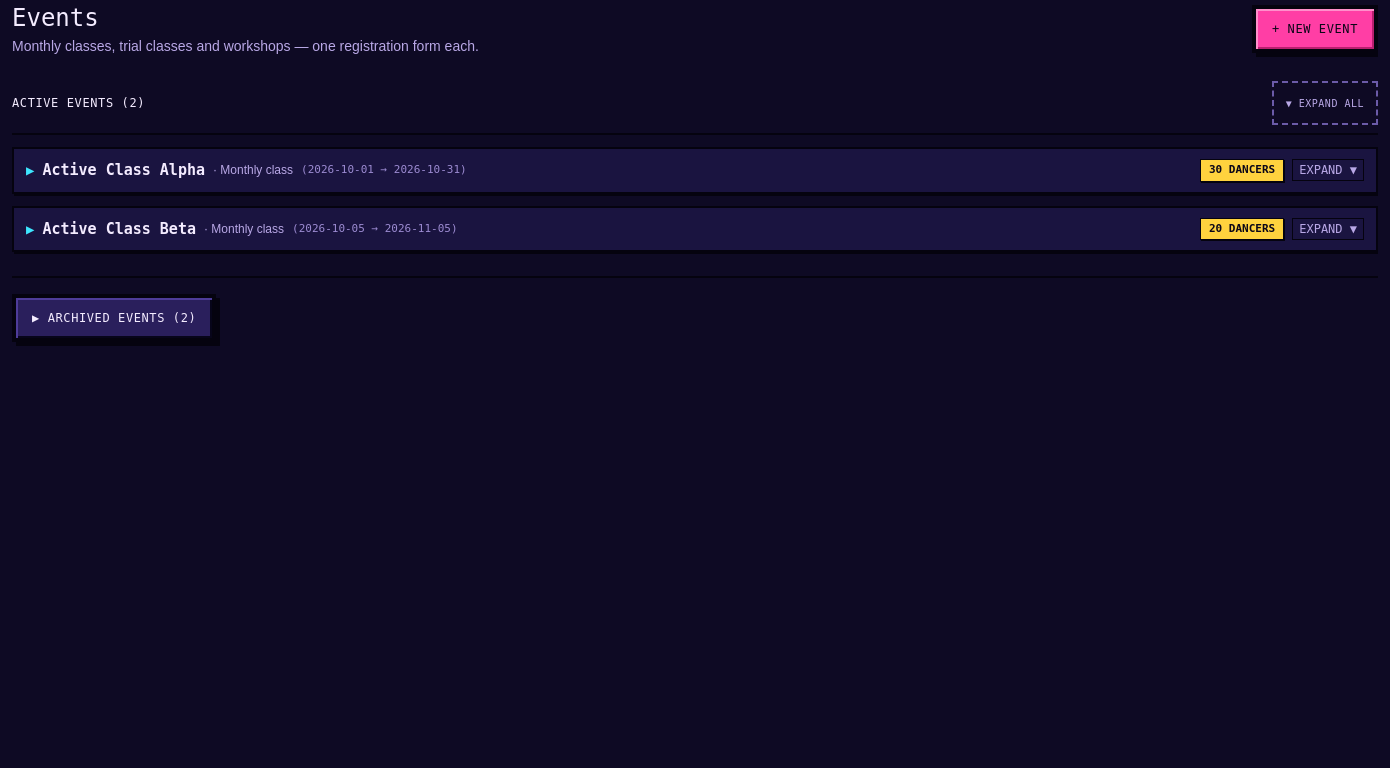
Test case: EventsPage Collapsible Accordions and Year-Based Archive › provides an Expand All / Collapse All button for active events
This screenshot has width=1390, height=768.
// Click Expand All
Click the button "▼ EXPAND ALL".
click(1325, 103)  # box [1272,81,1378,125]
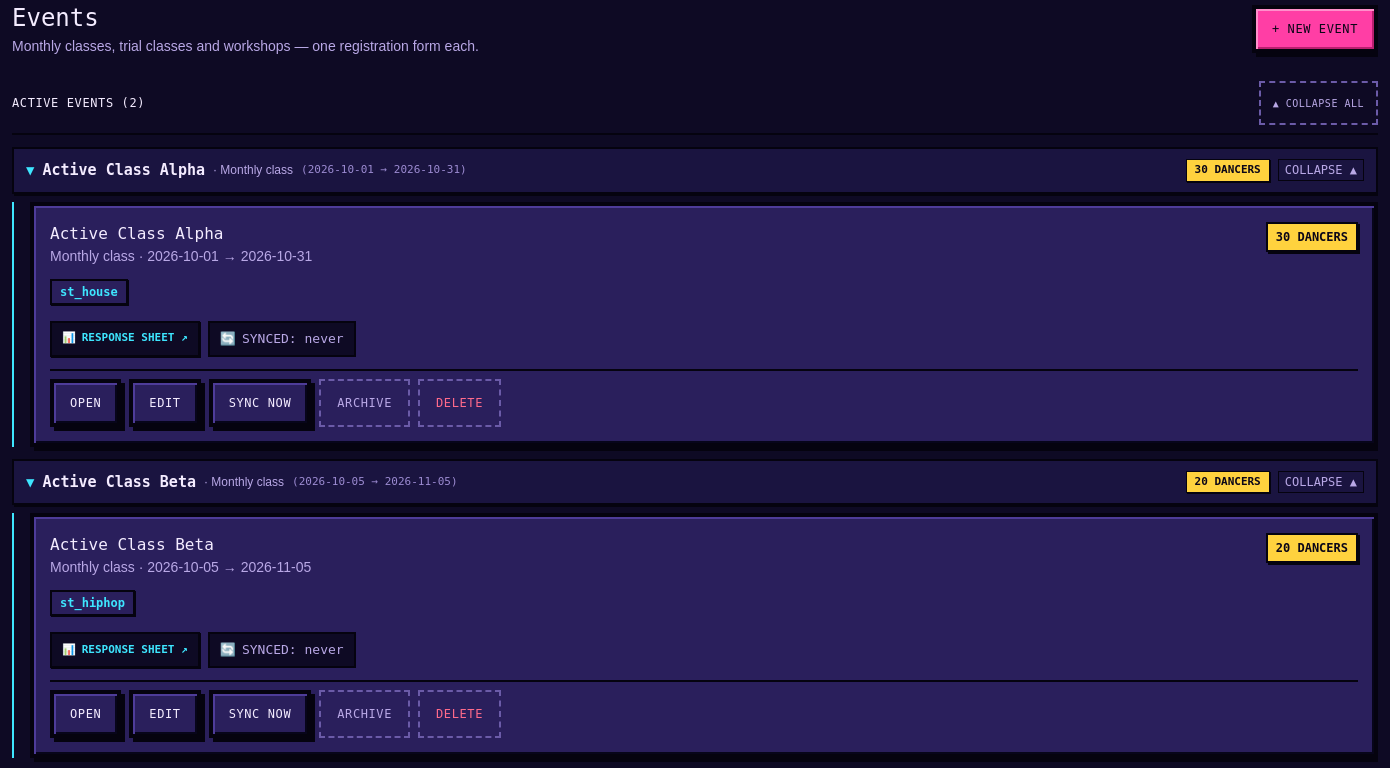
Check: the element with test id "event-card-ev-active-1" is shown, box [30,202,1378,446]
Check: the element with test id "event-card-ev-active-2" is shown, box [30,513,1378,758]
Check: the button "▲ COLLAPSE ALL" is shown
// Click Collapse All
Click the button "▲ COLLAPSE ALL".
click(1318, 103)  # box [1259,81,1378,125]
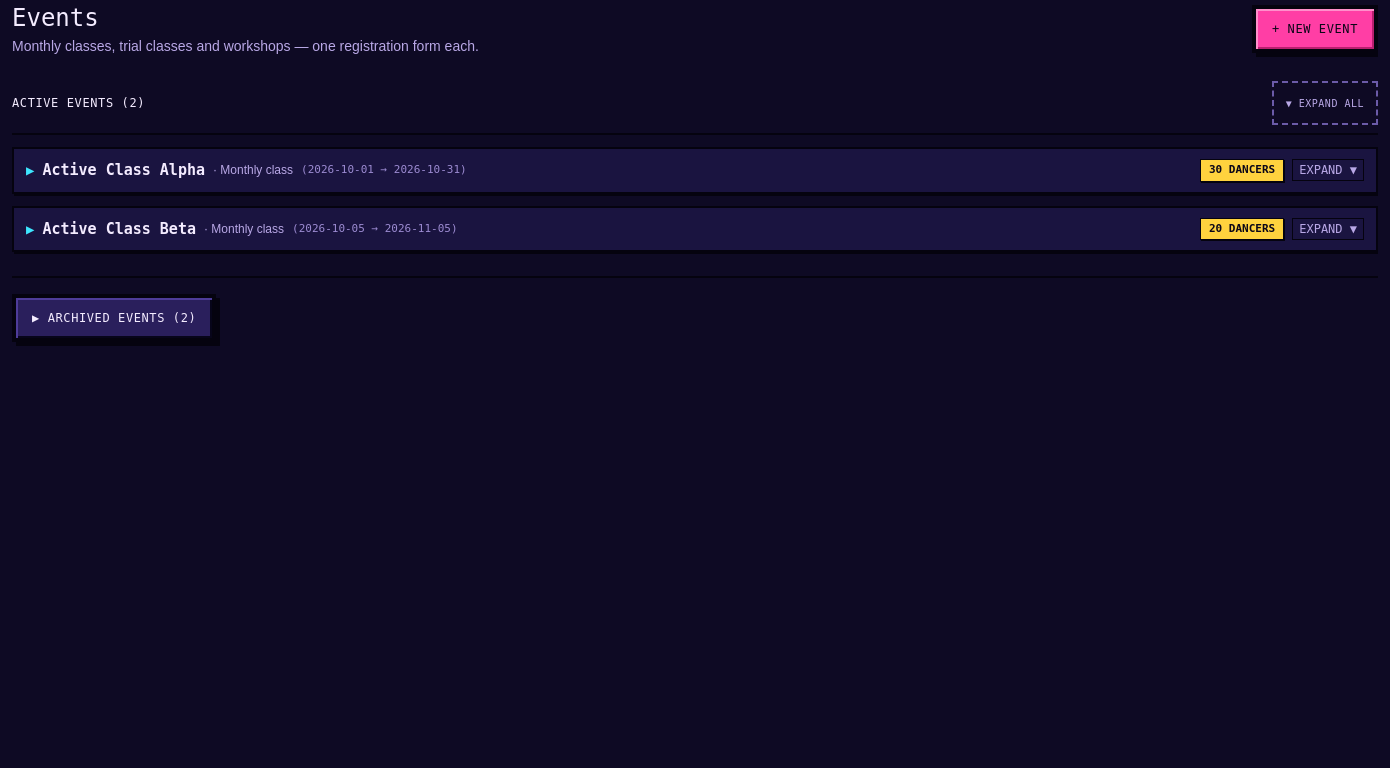
Check: the element with test id "event-card-ev-active-1" is gone
Check: the element with test id "event-card-ev-active-2" is gone
